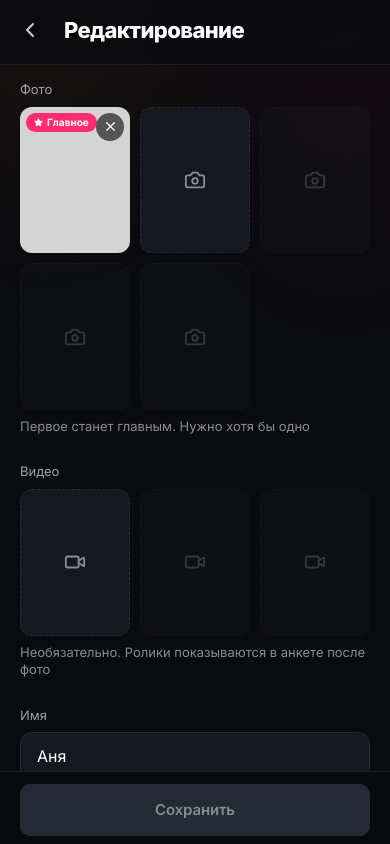
экран редактирования анкеты › испорченное поле блокирует сохранение и объясняет почему
The image size is (390, 844).
Replace the text in the field named "имя" with "А" at (195, 756), box [20, 732, 370, 780]
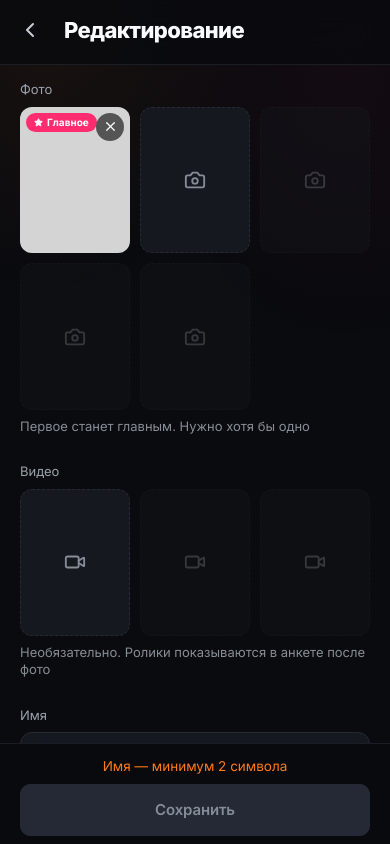
Expected: the button "Сохранить" is disabled, [20, 784, 370, 836]
Now the text "Имя — минимум 2 символа" is shown, box [103, 758, 287, 774]
